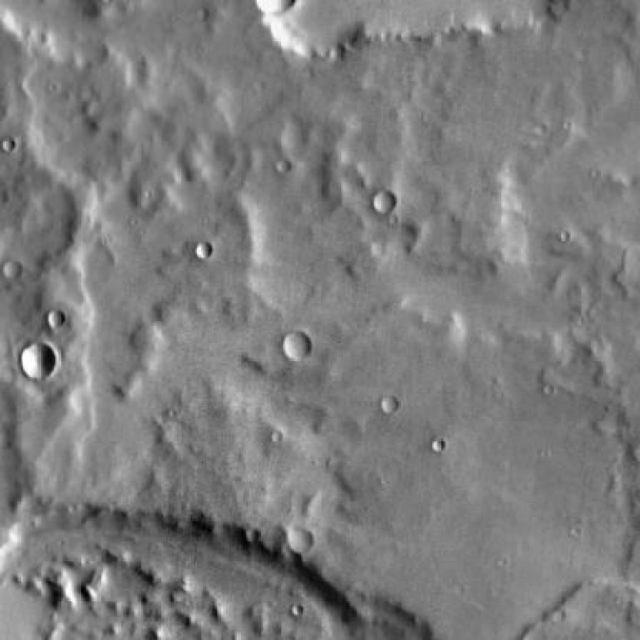crater: (0, 517, 395, 640), (245, 0, 364, 63), (19, 342, 56, 380), (284, 332, 311, 359), (371, 188, 394, 212), (292, 530, 314, 552), (378, 396, 398, 416), (194, 242, 211, 260), (46, 310, 63, 327)
